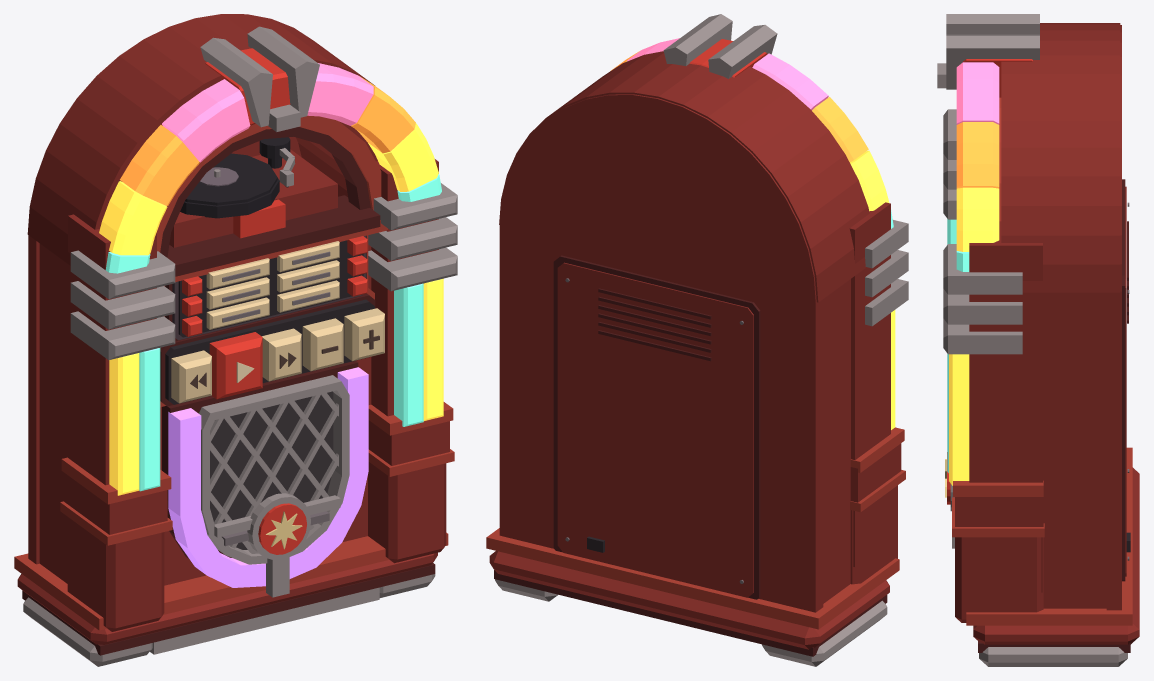
File: Jukebox_3500.fbx
3 renders of one model, left to right at view 1: azimuth 30°, elevation 25°; view 2: azimuth 150°, elevation 25°; view 3: azimuth 270°, elevation 25°, orthographic. The views are drawn at different scales.
Parts seen in each view (by area): view 1: GEO-Arch_Light_Honey_L, GEO-Base_Central_Pewter_Toe, GEO-Diamond_Grille_-1_0, GEO-Song_Card_L_2, GEO-Record_Player_Front_Pedestal, GEO-Controls_Charcoal_Panel, GEO-Key_Play, GEO-Vinyl_Record, GEO-Glyph_Minus_Horizontal, GEO-Glyph_Previous_-1, GEO-Key_Plus, GEO-Glyph_Next_-1 (+3 smaller); view 2: GEO-Base_Central_Pewter_Toe, GEO-Back_Power_Socket, GEO-Arch_Light_Honey_L; view 3: GEO-Base_Central_Pewter_Toe, GEO-Arch_Light_Honey_L, GEO-Back_Power_Socket.
Part boxes in pixels (x1=…): GEO-Arch_Light_Honey_L: x1=60, y1=26, x2=457, y2=631; GEO-Base_Central_Pewter_Toe: x1=14, y1=14, x2=448, y2=666; GEO-Diamond_Grille_-1_0: x1=162, y1=360, x2=368, y2=597; GEO-Song_Card_L_2: x1=164, y1=235, x2=368, y2=341; GEO-Record_Player_Front_Pedestal: x1=169, y1=149, x2=337, y2=247; GEO-Controls_Charcoal_Panel: x1=160, y1=288, x2=375, y2=407; GEO-Key_Play: x1=209, y1=332, x2=262, y2=399; GEO-Vinyl_Record: x1=185, y1=153, x2=277, y2=205; GEO-Glyph_Minus_Horizontal: x1=302, y1=318, x2=343, y2=371; GEO-Glyph_Previous_-1: x1=171, y1=350, x2=211, y2=403; GEO-Key_Plus: x1=344, y1=308, x2=384, y2=361; GEO-Glyph_Next_-1: x1=262, y1=328, x2=301, y2=381; GEO-Base_Central_Pewter_Toe: x1=486, y1=51, x2=899, y2=666; GEO-Back_Power_Socket: x1=553, y1=255, x2=760, y2=599; GEO-Arch_Light_Honey_L: x1=611, y1=14, x2=908, y2=584; GEO-Base_Central_Pewter_Toe: x1=966, y1=23, x2=1139, y2=666; GEO-Arch_Light_Honey_L: x1=937, y1=14, x2=1044, y2=622; GEO-Back_Power_Socket: x1=1122, y1=179, x2=1130, y2=581.
Bounding box in the file's own units: 127 × 200 × 65.01.
